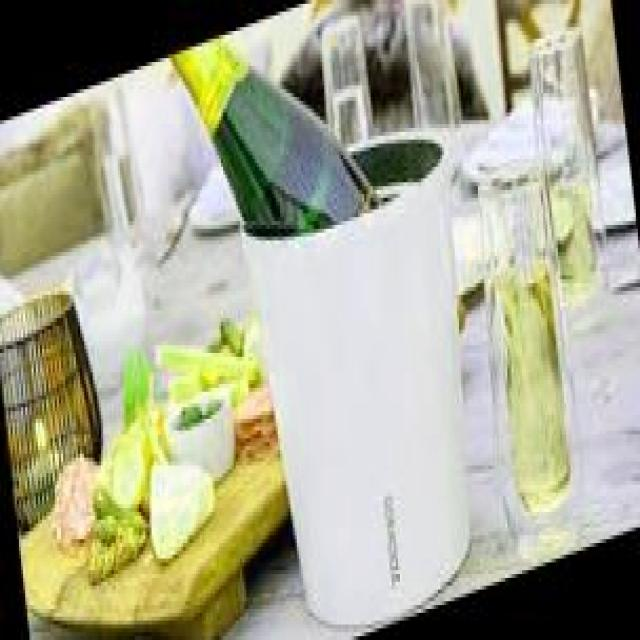bottle: (231, 104, 494, 640)
